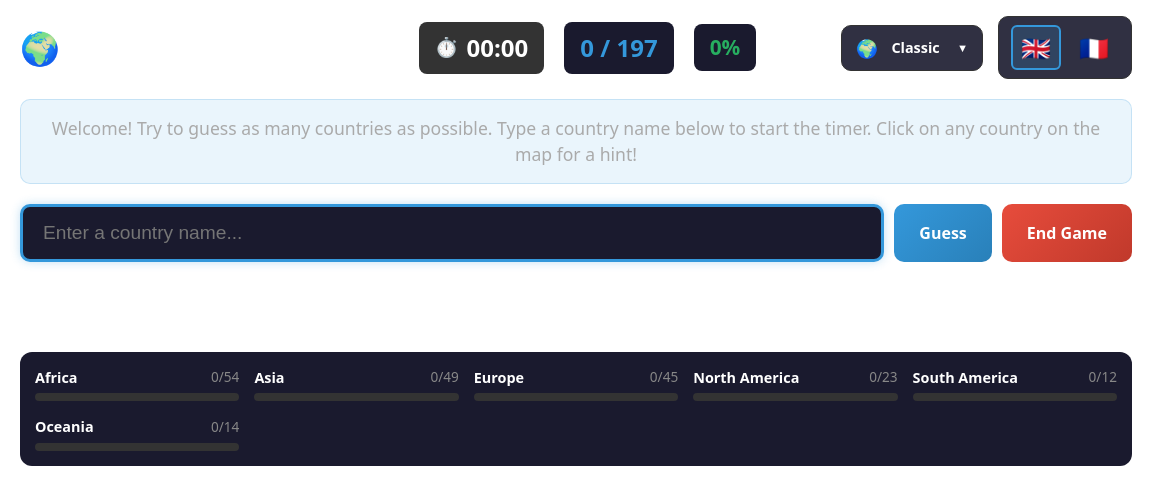
Test: Game Component › wrong guess handling › should show wrong message for invalid country
This screenshot has width=1149, height=483.
Type "Atlantis" into the field with placeholder "Enter a country name...". click: (452, 233)
box: [20,204,884,262]
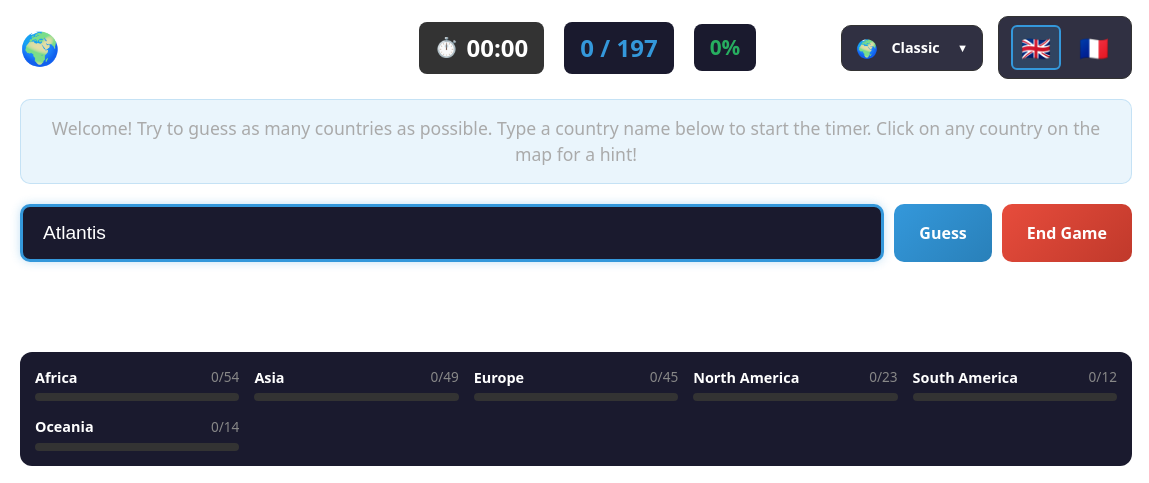
Click the button "Guess". click: click(943, 233)
box: [894,204,992,262]
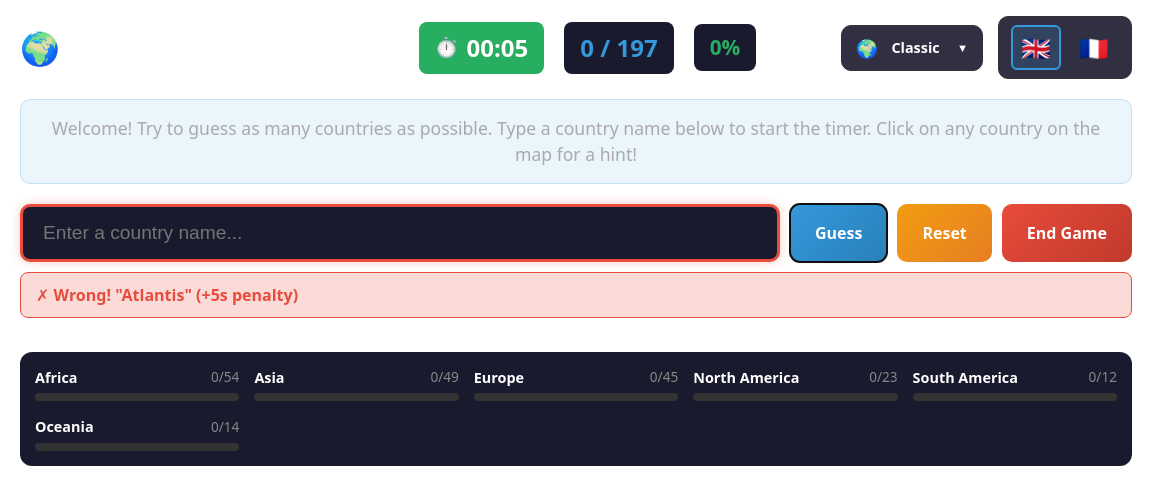
Expected: the text "✗ Wrong! \"Atlantis\" (+5s penalty)" is shown, [20,272,1132,318]
